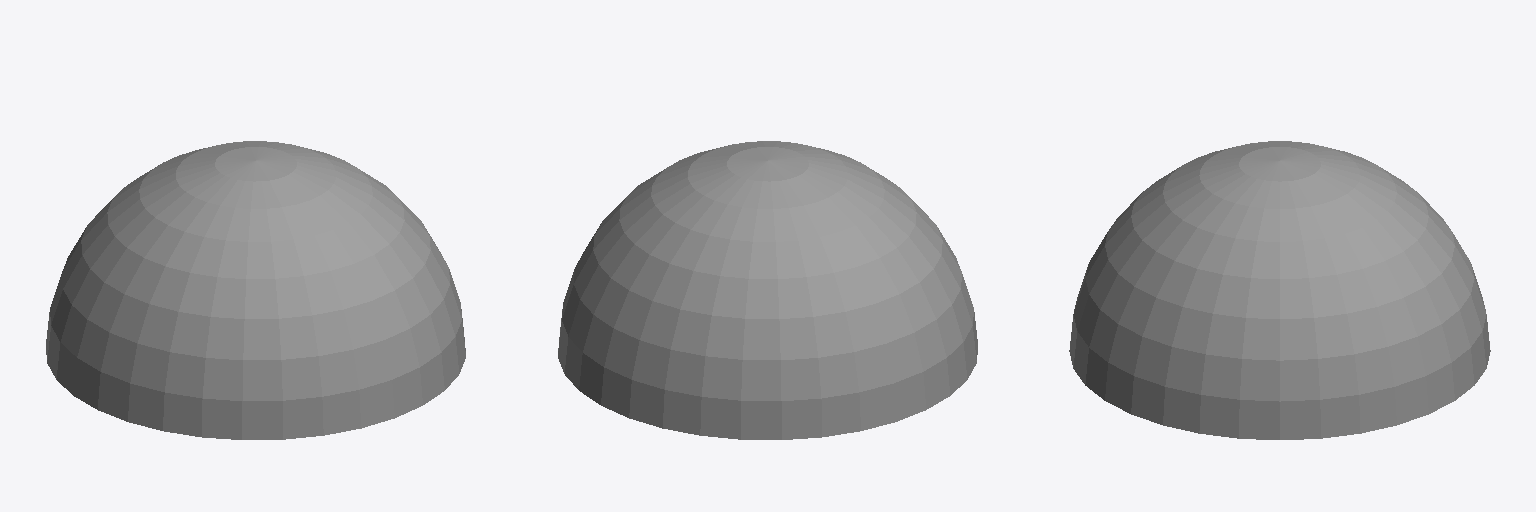
Rendered from hand01.obj.
3 renders of one model, left to right at view 1: azimuth 30°, elevation 25°; view 2: azimuth 150°, elevation 25°; view 3: azimuth 270°, elevation 25°, orthographic.
Visible parts, largest first — view 1: hand01_Sphere; view 2: hand01_Sphere; view 3: hand01_Sphere.
Boxes of the visible parts, box(x1,y1,x2,y2) form: hand01_Sphere: box(46, 141, 465, 439); hand01_Sphere: box(558, 141, 977, 439); hand01_Sphere: box(1069, 141, 1490, 439).
Size of the model in its own units: 2 by 1 by 2.